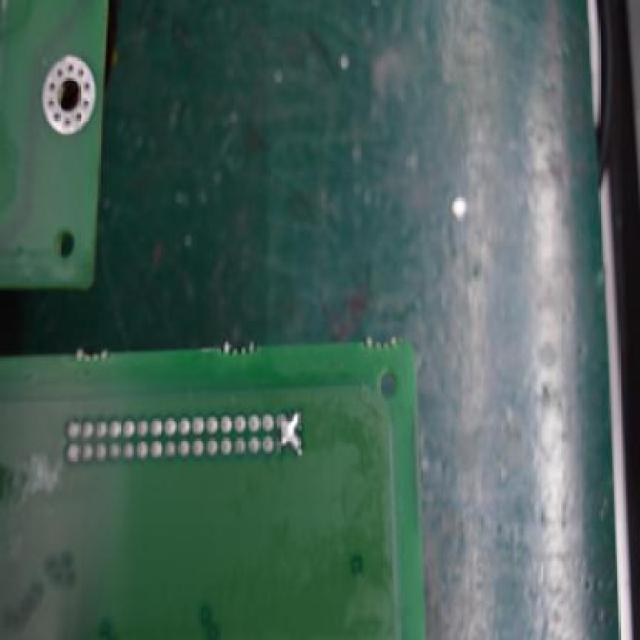Soldering shorted: (273, 408, 307, 458)
